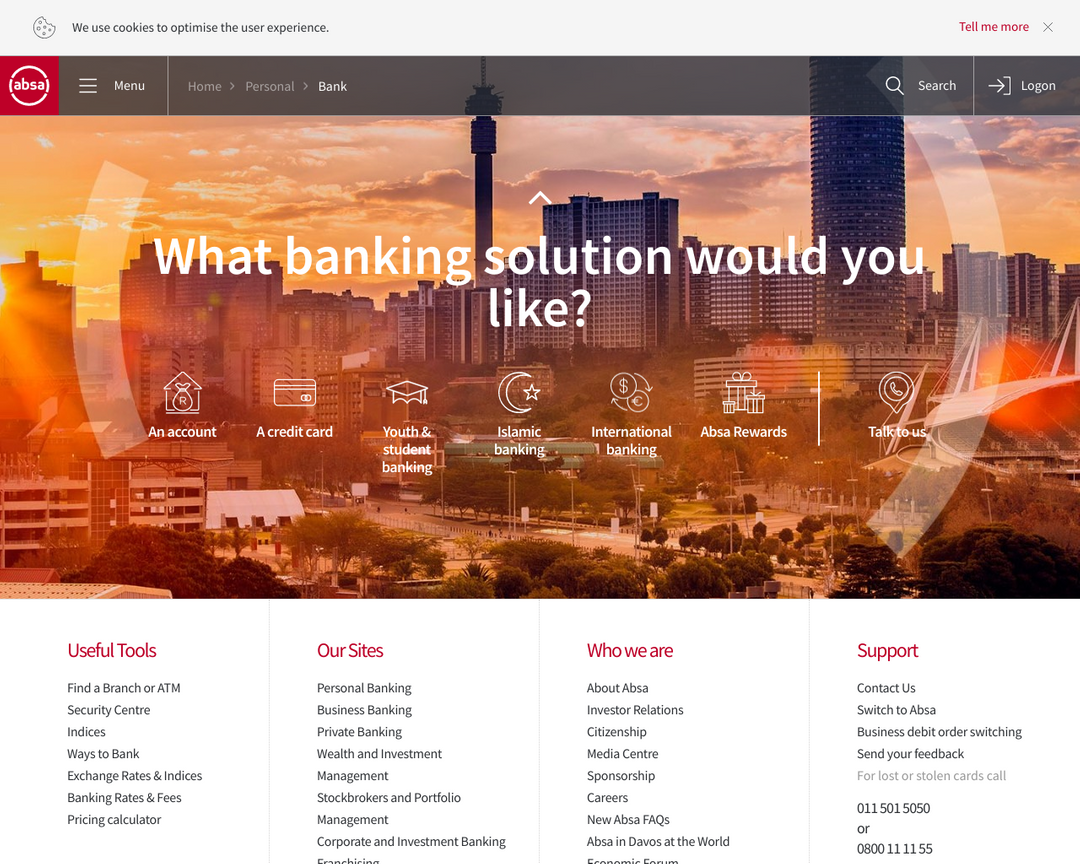ABSA: (5, 66, 53, 107)
